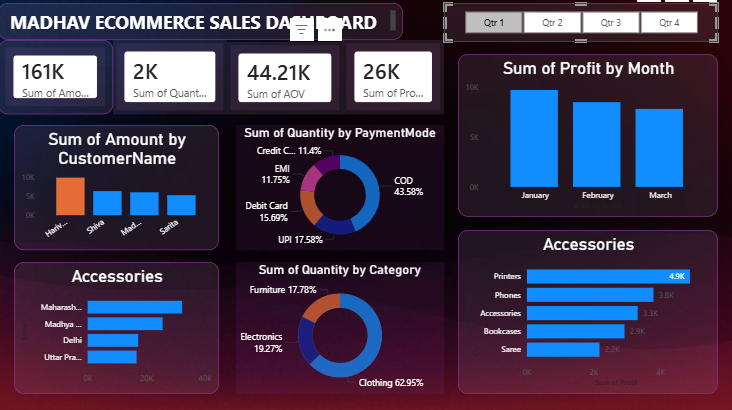

What the dashboard file says about the page in this screenshot:
{"tool":"powerbi","page":{"name":"Page 1","canvas":[1280,720],"ordinal":0},"visuals":[{"type":"textbox","box":[116.5,61.2,605,55.3],"z":0},{"type":"columnChart","fields":{"Y":["Sum(Details.Profit)"],"Category":["Orders.Order Date.Variation.Date Hierarchy.Month"]},"box":[803.7,137.4,388.4,243.5],"z":1000},{"type":"barChart","fields":{"Category":["Details.Sub-Category"],"Y":["Sum(Details.Profit)"]},"box":[803.7,400.3,388.4,245],"z":2000},{"type":"donutChart","fields":{"Category":["Details.Category"],"Y":["Sum(Details.Quantity)"]},"box":[472,448.1,310.7,197.2],"z":3000},{"type":"donutChart","fields":{"Category":["Details.PaymentMode"],"Y":["Sum(Details.Quantity)"]},"box":[472,243.5,310.7,186.7],"z":4000},{"type":"cardVisual","fields":{"Data":["Sum(Details.Profit)"]},"box":[631.9,116.5,150.9,110.5],"z":5000},{"type":"cardVisual","fields":{"Data":["Sum(Details.Amount)"]},"box":[116.5,116.5,171.8,110.5],"z":6000},{"type":"cardVisual","fields":{"Data":["Sum(Details.Quantity)"]},"box":[288.3,116.5,170.3,110.5],"z":7000},{"type":"cardVisual","fields":{"Data":["Sum(Details.AOV)"]},"box":[458.6,119.5,173.3,107.6],"z":8000},{"type":"barChart","fields":{"Y":["Sum(Details.Amount)"],"Category":["Orders.State"]},"box":[140.4,448.1,306.2,197.2],"z":9000},{"type":"columnChart","fields":{"Category":["Orders.CustomerName"],"Y":["Sum(Details.Amount)"]},"box":[140.4,243.5,306.2,186.7],"z":10000},{"type":"slicer","fields":{"Values":["Orders.Order Date.Variation.Date Hierarchy.Quarter"]},"box":[782.7,61.2,409.3,58.3],"z":11000}]}

Visuals, with their boxes in screenshot pixels (x1, y1, x2, y2), scaled from the page's 1280x720 canvas onto the 732x410 screenshot:
textbox: x1=67 y1=35 x2=413 y2=66
columnChart - Sum(Details.Profit) x Orders.Order Date.Variation.Date Hierarchy.Month: x1=460 y1=78 x2=682 y2=217
barChart - Details.Sub-Category x Sum(Details.Profit): x1=460 y1=228 x2=682 y2=367
donutChart - Details.Category x Sum(Details.Quantity): x1=270 y1=255 x2=448 y2=367
donutChart - Details.PaymentMode x Sum(Details.Quantity): x1=270 y1=139 x2=448 y2=245
cardVisual - Sum(Details.Profit): x1=361 y1=66 x2=448 y2=129
cardVisual - Sum(Details.Amount): x1=67 y1=66 x2=165 y2=129
cardVisual - Sum(Details.Quantity): x1=165 y1=66 x2=262 y2=129
cardVisual - Sum(Details.AOV): x1=262 y1=68 x2=361 y2=129
barChart - Sum(Details.Amount) x Orders.State: x1=80 y1=255 x2=255 y2=367
columnChart - Orders.CustomerName x Sum(Details.Amount): x1=80 y1=139 x2=255 y2=245
slicer - Orders.Order Date.Variation.Date Hierarchy.Quarter: x1=448 y1=35 x2=682 y2=68
